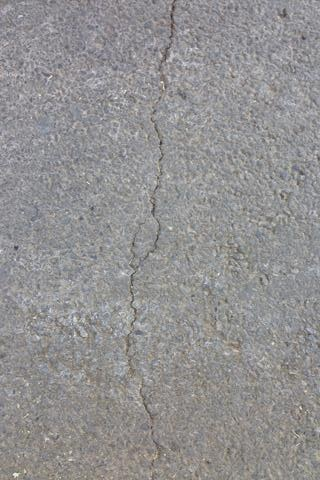A: (123, 1, 188, 475)
